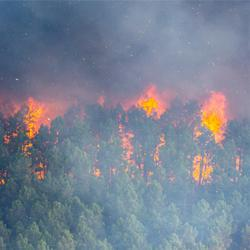fire: (203, 110, 226, 126), (27, 107, 39, 134), (194, 161, 210, 179), (142, 97, 158, 111)
